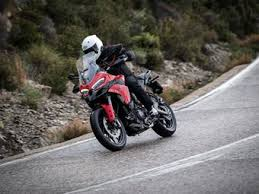motorcycle: (67, 44, 178, 153)
